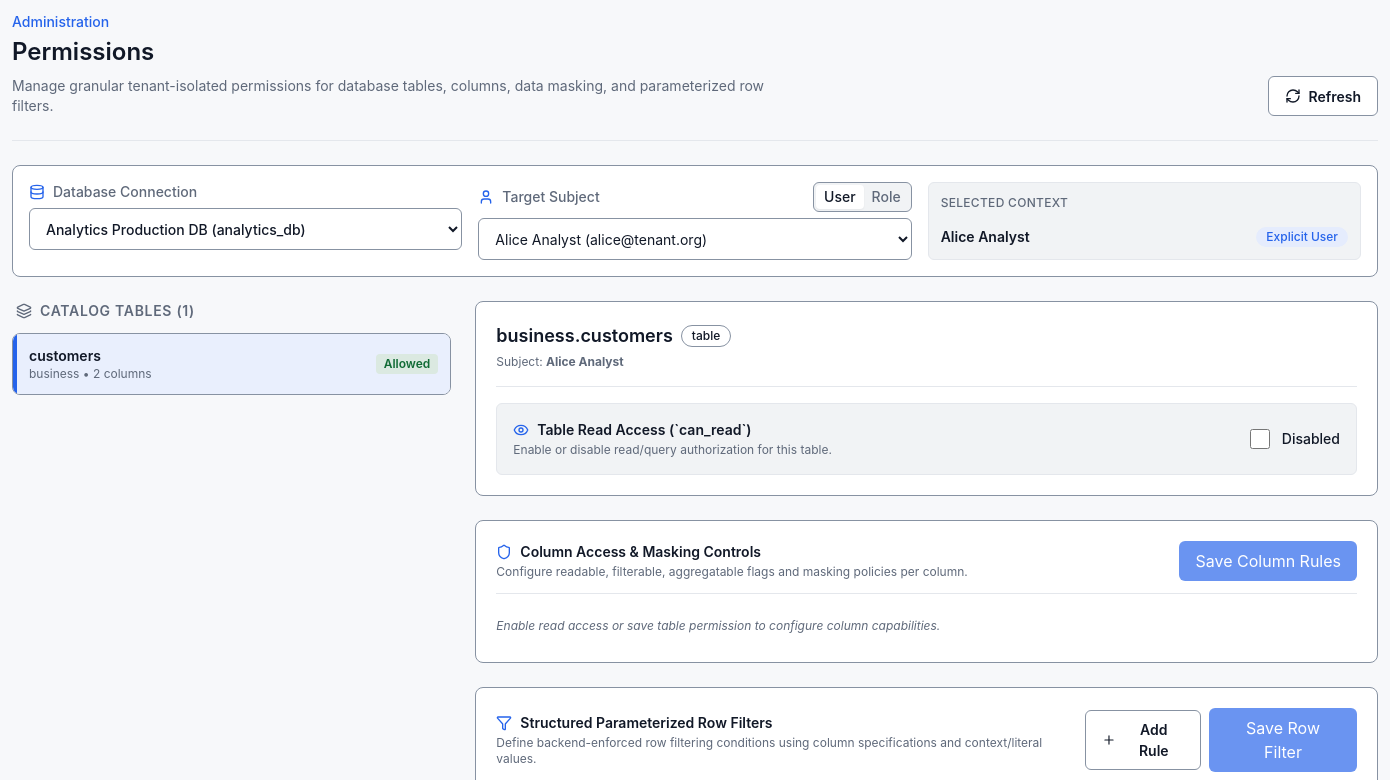
PermissionsWorkspace UI Component › shows success message, handles saving button state, prevents duplicate requests, announces via aria-live, and clears on table switch
Click the button "customers business • 2 columns Allowed" at x=65, y=356, box [13, 334, 450, 394]
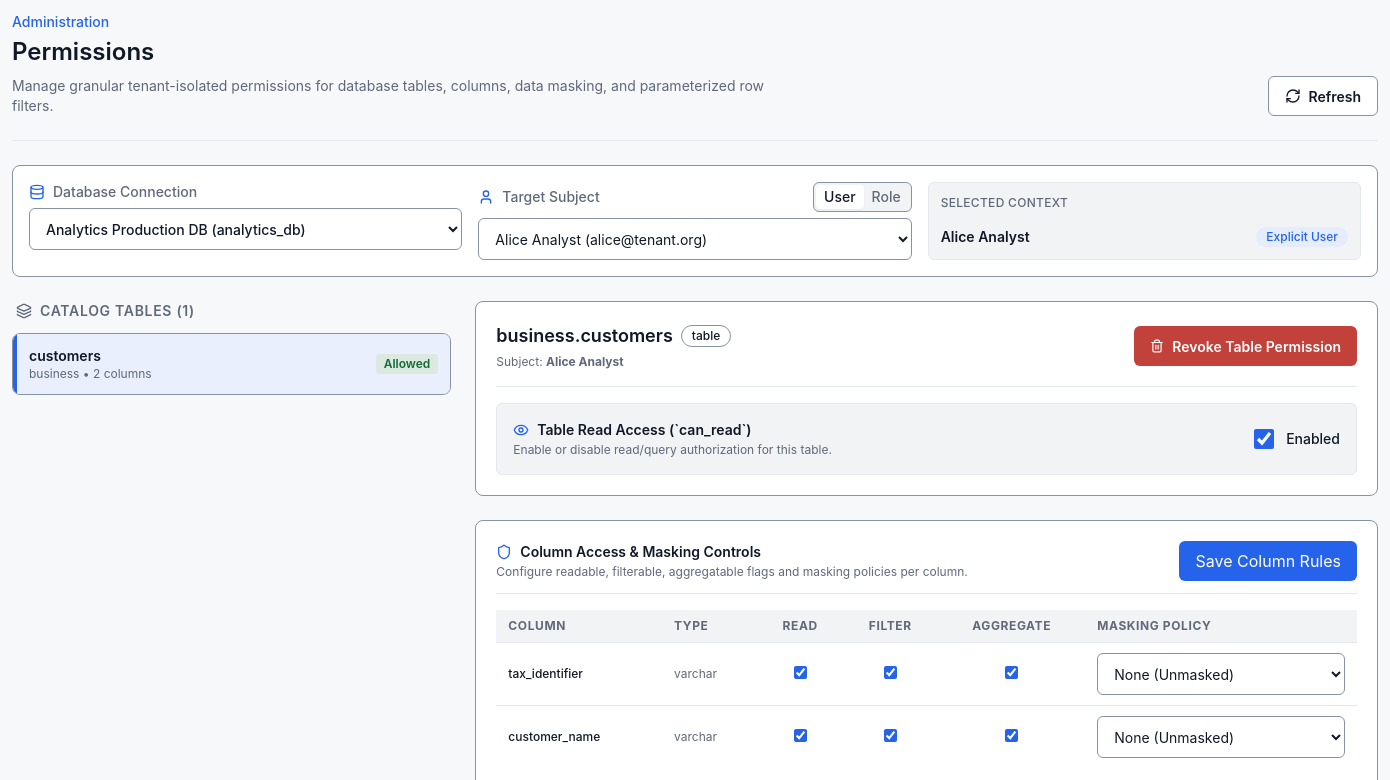
Expected: the text "Column rules saved successfully." is not shown
Note: Trigger save
Click the button "Save Column Rules" at x=1268, y=561, box [1180, 541, 1357, 581]
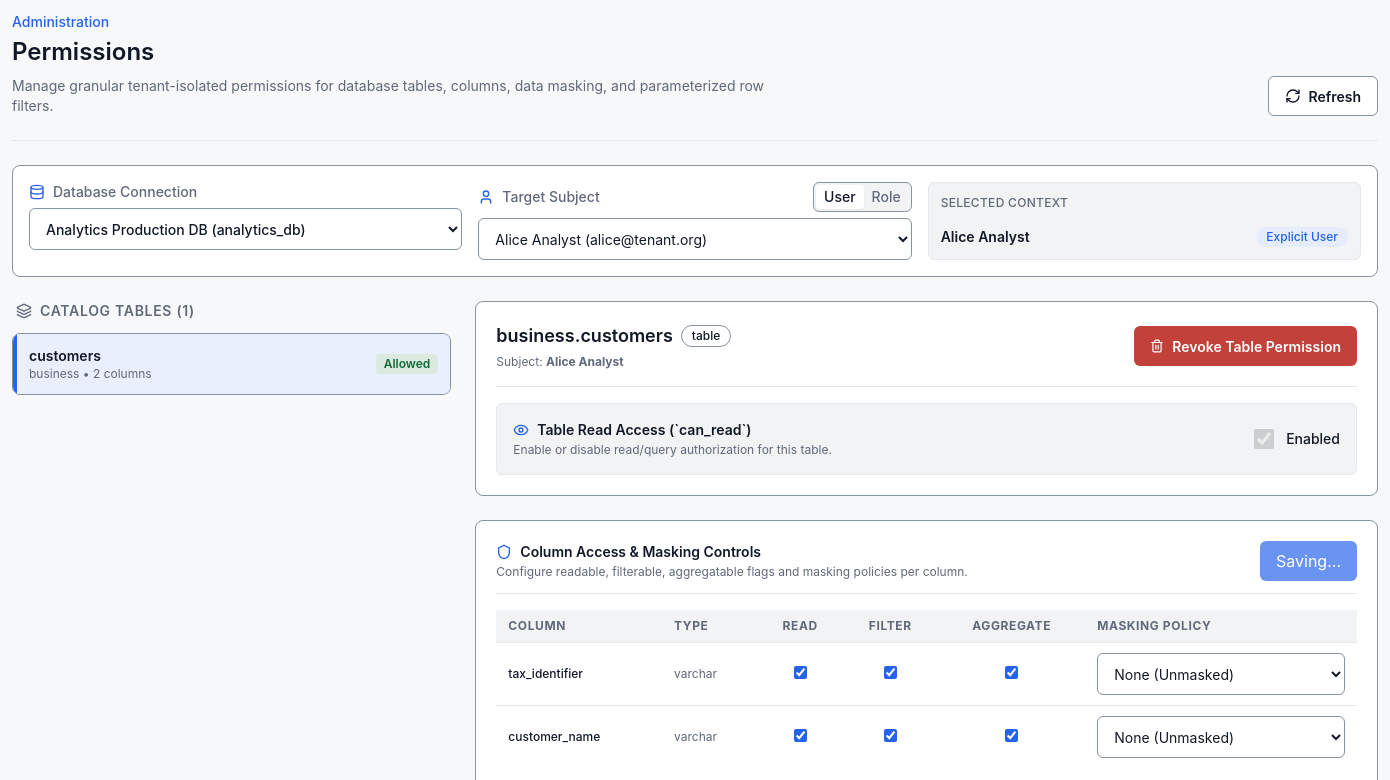
Now the button named "Save Column Rules" is disabled
Now the button named "Save Column Rules" reads "Saving..."
Note: Double-click does not send duplicate requests
Click the button named "Save Column Rules" at x=1308, y=561, box [1260, 541, 1357, 581]
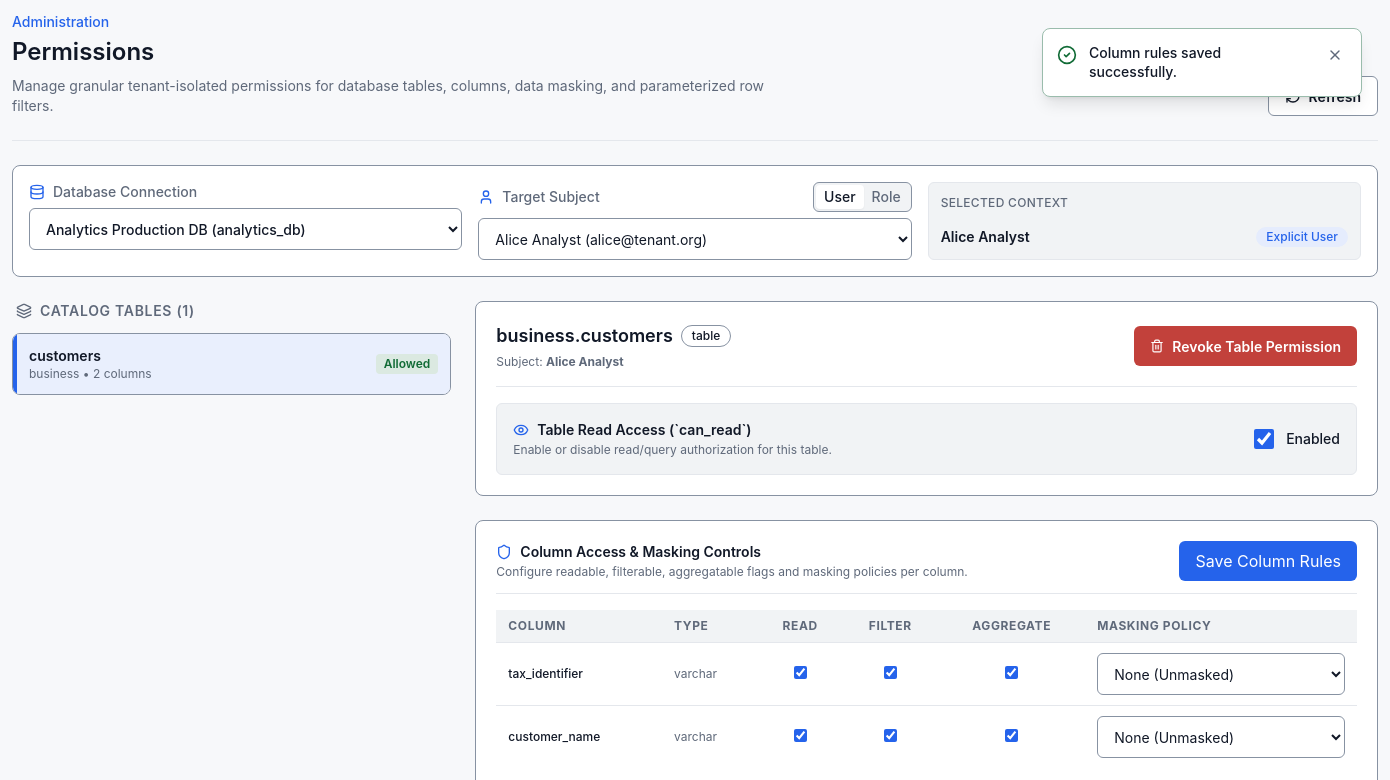
Now the text "Column rules saved successfully." is shown, box [1089, 44, 1221, 80]
Note: Dismiss notification removes toast
Click the button named "Dismiss notification" at x=1335, y=55, box [1323, 43, 1347, 67]
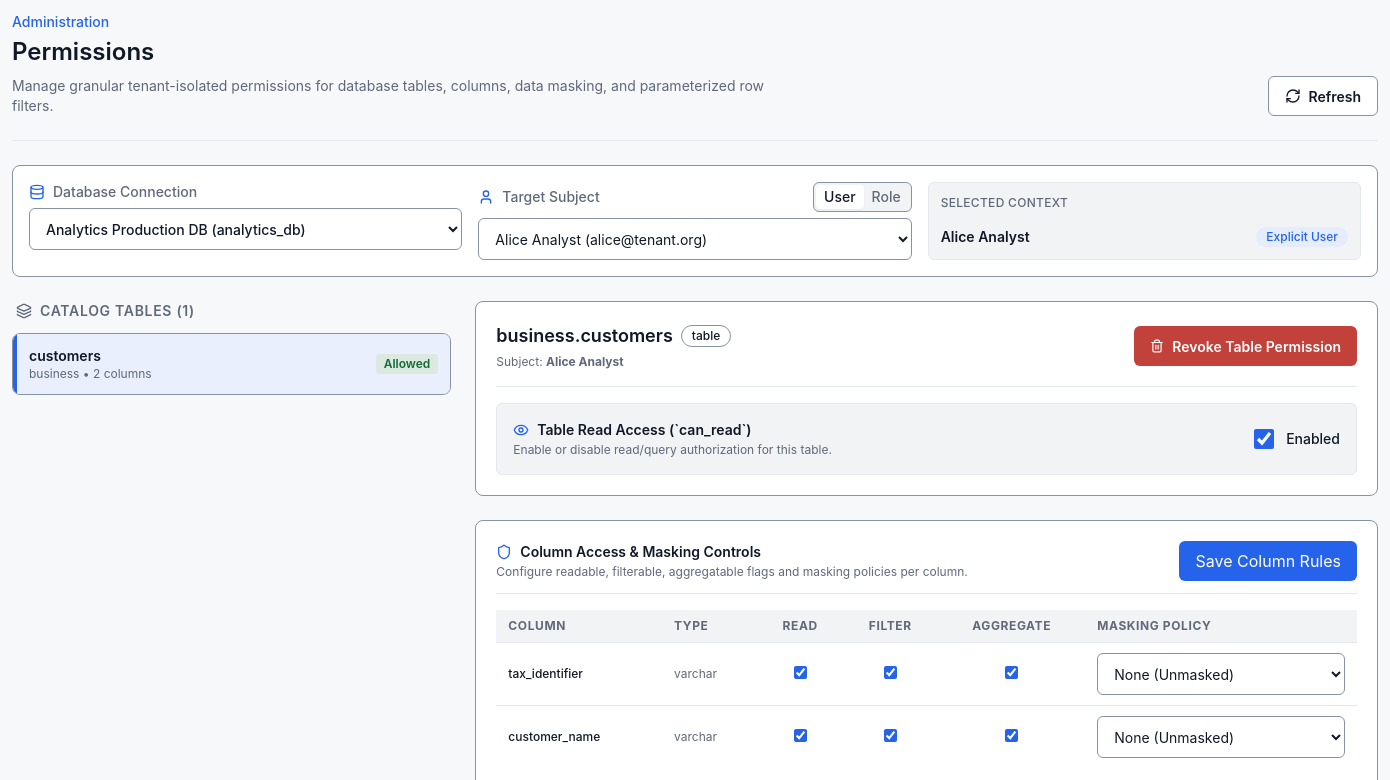
Now the text "Column rules saved successfully." is gone
